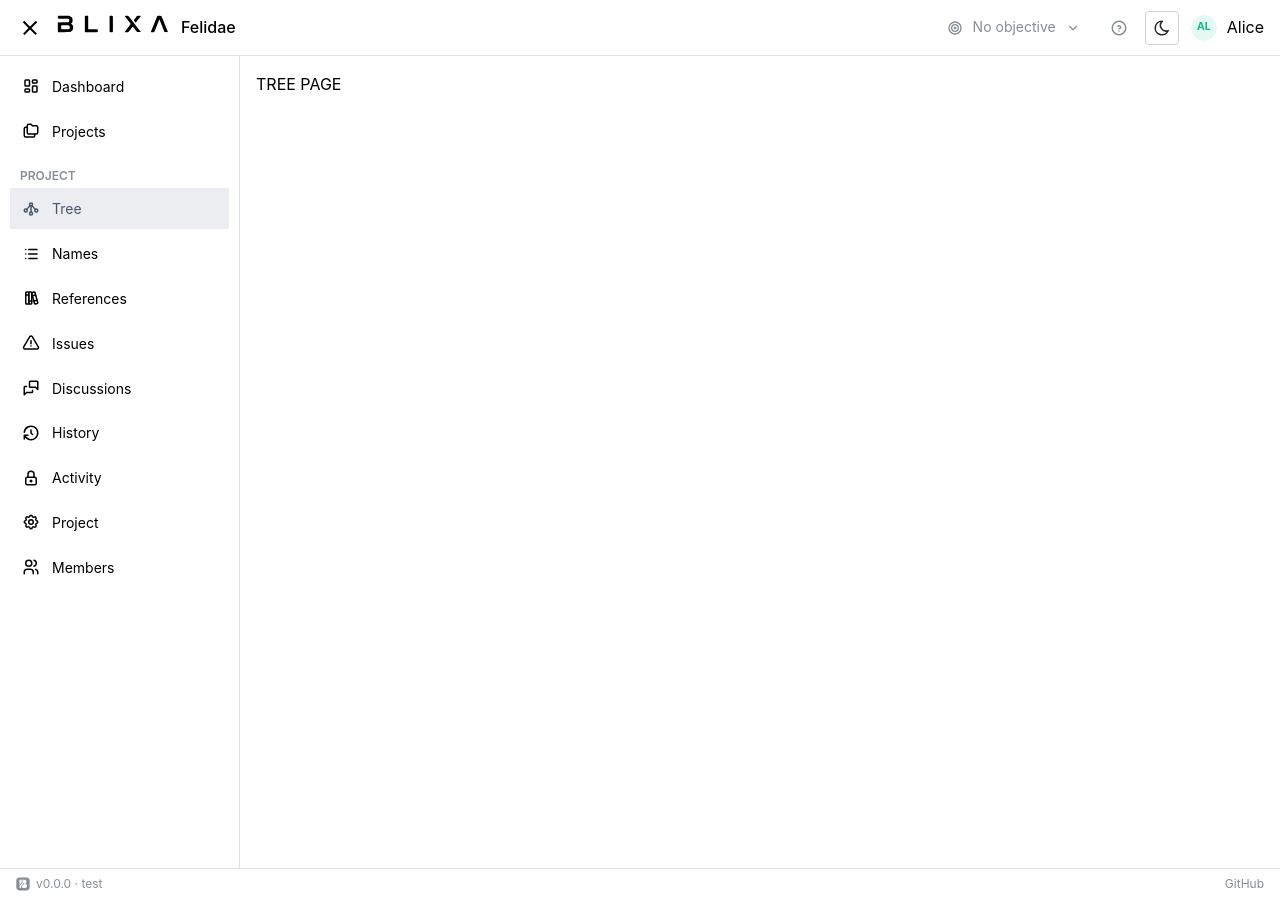
the desktop collapse toggle hides the sidebar labels
Check: the text "Names" is shown, box [52,245,98,262]
Click the button named "Collapse navigation" at x=30, y=28, box [16,14,44,42]
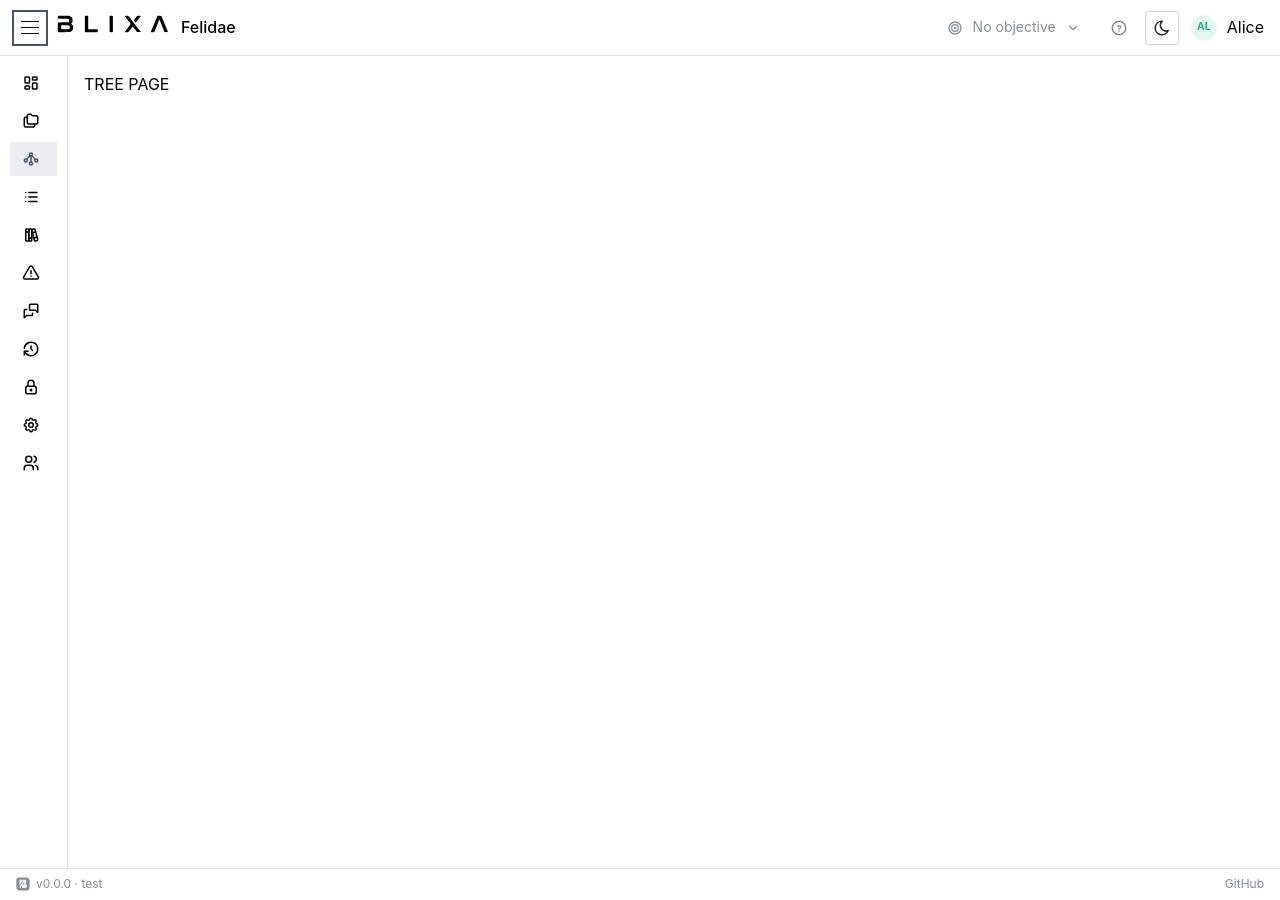
Check: the text "Names" is gone
